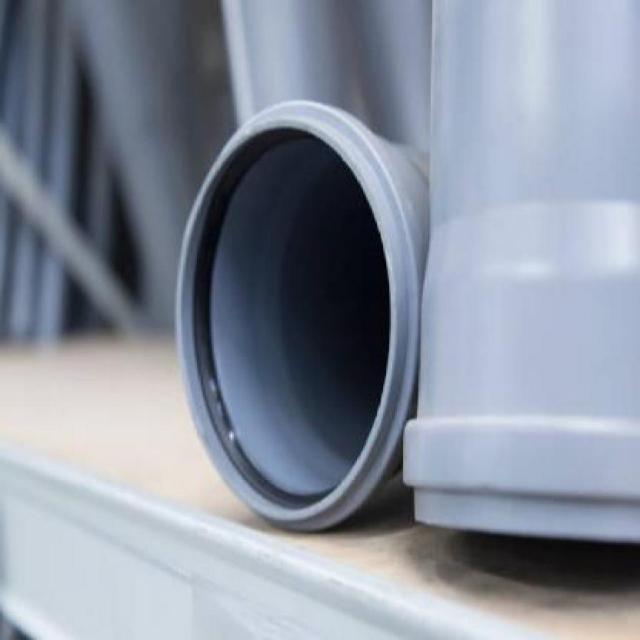pipe: (174, 101, 415, 525)
